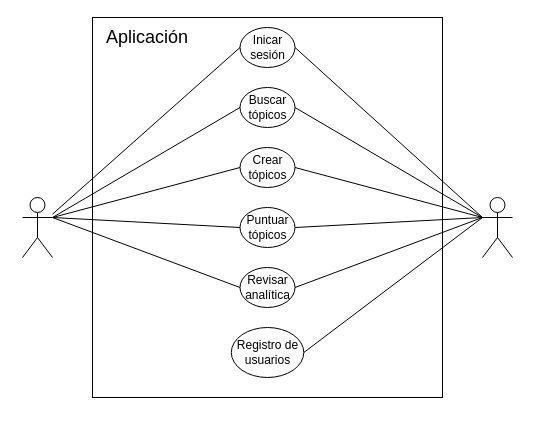
The diagram is 552 pixels wide and 423 high, and some of its shapes have lost their labels. The shapes that lost their labels are listed below. From the top down, each one's centre as x and y in pixels, then its label:
the point at 37,227: Usuario
the point at 497,227: Administrador
